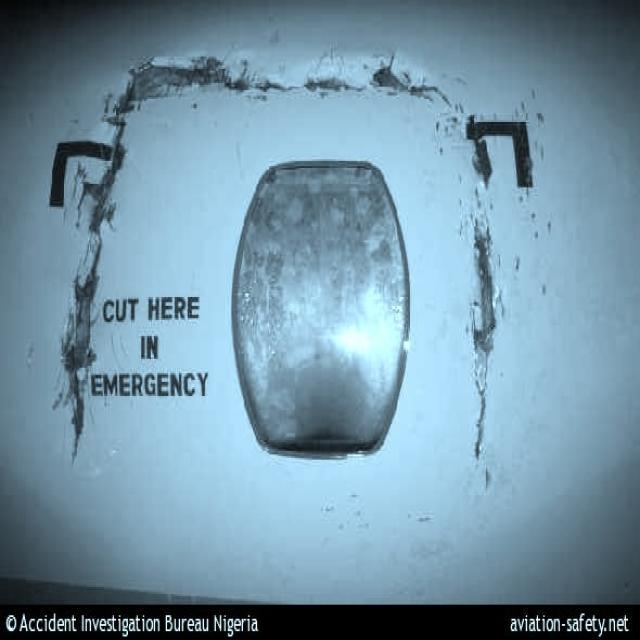crack: (125, 58, 455, 104), (52, 247, 110, 472), (78, 109, 132, 244), (473, 215, 500, 472)
